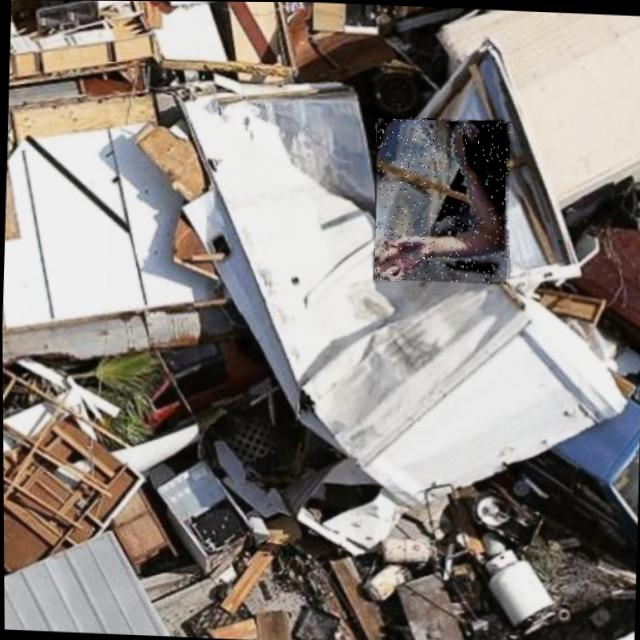Person in Rubble: (372, 115, 513, 283)
